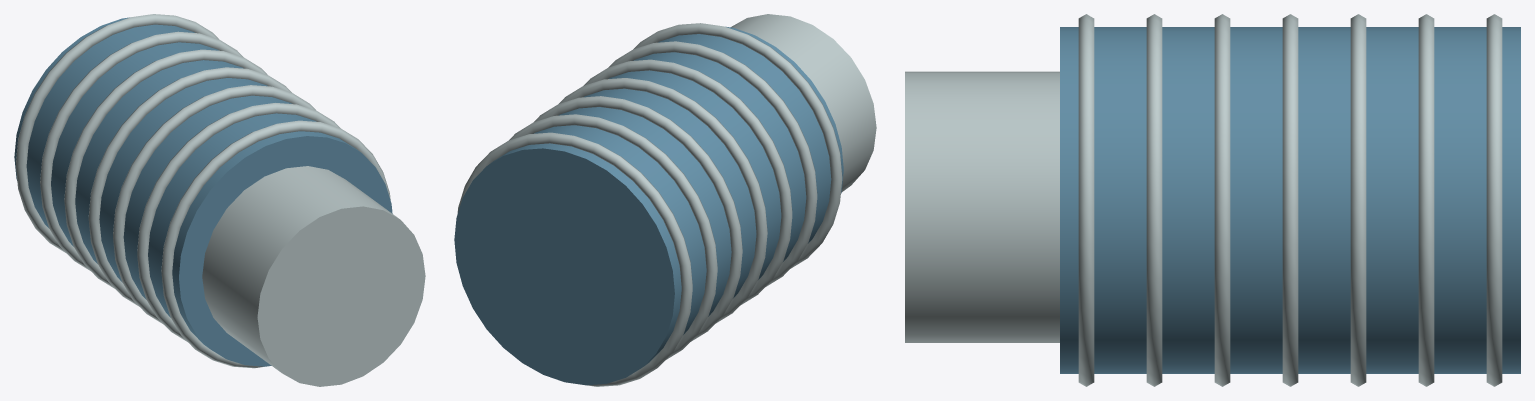
The model's file is car-drive.glb.
3 renders of one model, left to right at view 1: azimuth 30°, elevation 25°; view 2: azimuth 150°, elevation 25°; view 3: azimuth 270°, elevation 25°, orthographic. The views are drawn at different scales.
Visible parts, largest first — view 1: Traction motor casing, Reduction gearbox, Motor cooling fin (×7); view 2: Traction motor casing, Motor cooling fin (×7), Reduction gearbox; view 3: Traction motor casing, Motor cooling fin (×7), Reduction gearbox.
Part boxes in pixels (bbox=[...]): Traction motor casing: bbox=[14, 17, 392, 366]; Reduction gearbox: bbox=[202, 166, 425, 386]; Motor cooling fin (×7): bbox=[16, 14, 390, 368]; Traction motor casing: bbox=[454, 26, 843, 385]; Motor cooling fin (×7): bbox=[457, 23, 842, 386]; Reduction gearbox: bbox=[731, 14, 876, 191]; Traction motor casing: bbox=[1060, 27, 1520, 373]; Motor cooling fin (×7): bbox=[1078, 14, 1502, 386]; Reduction gearbox: bbox=[905, 71, 1059, 342].
Bounding box in the file's own units: 0.494 × 0.494 × 0.815.
